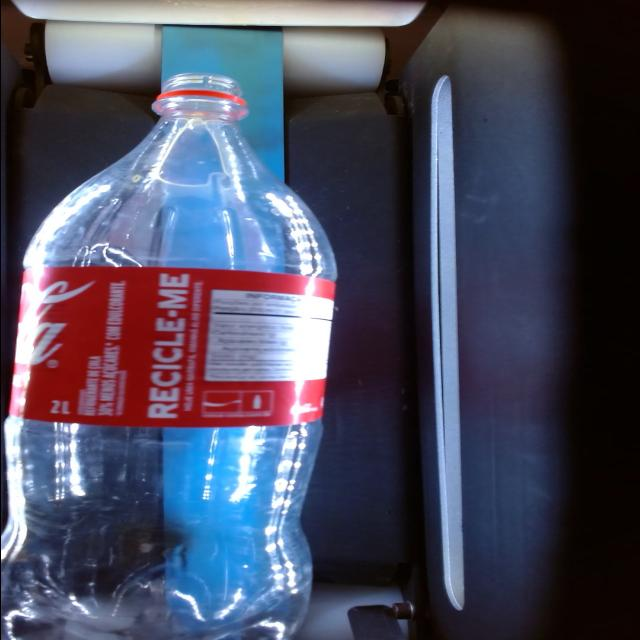bottom: (0, 544, 316, 639)
no_cap: (148, 69, 247, 134)
